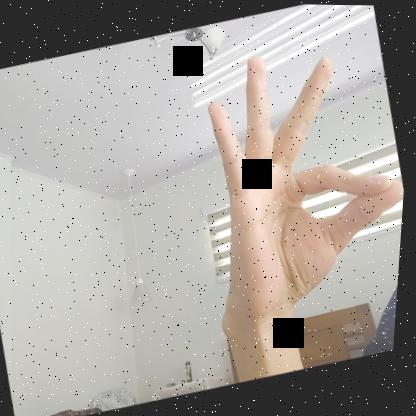F: (171, 25, 414, 331)
